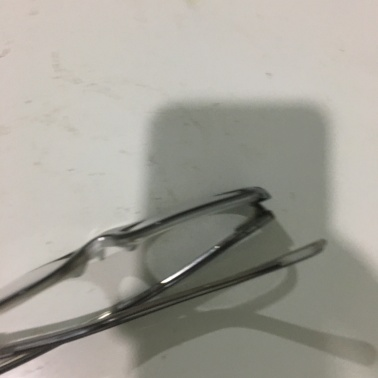glasses: (1, 184, 286, 326)
